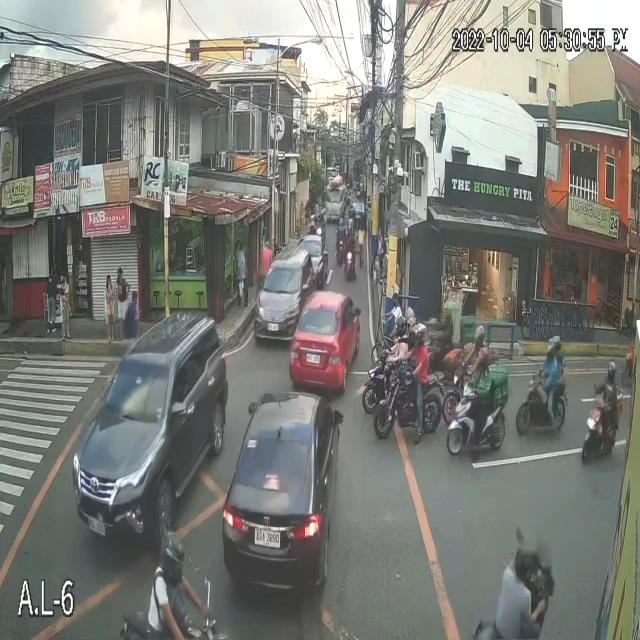Full-Faced: (513, 546, 534, 583), (162, 540, 182, 573), (406, 306, 420, 326), (477, 349, 488, 372), (469, 328, 483, 346), (604, 364, 614, 384), (415, 325, 425, 343), (445, 302, 456, 318), (408, 318, 418, 332), (395, 318, 406, 330), (546, 343, 556, 356)
Half-Faced: (336, 212, 344, 232)
Invalid: (628, 325, 640, 349)
Not-Wearing-Helmet: (358, 223, 367, 243)
